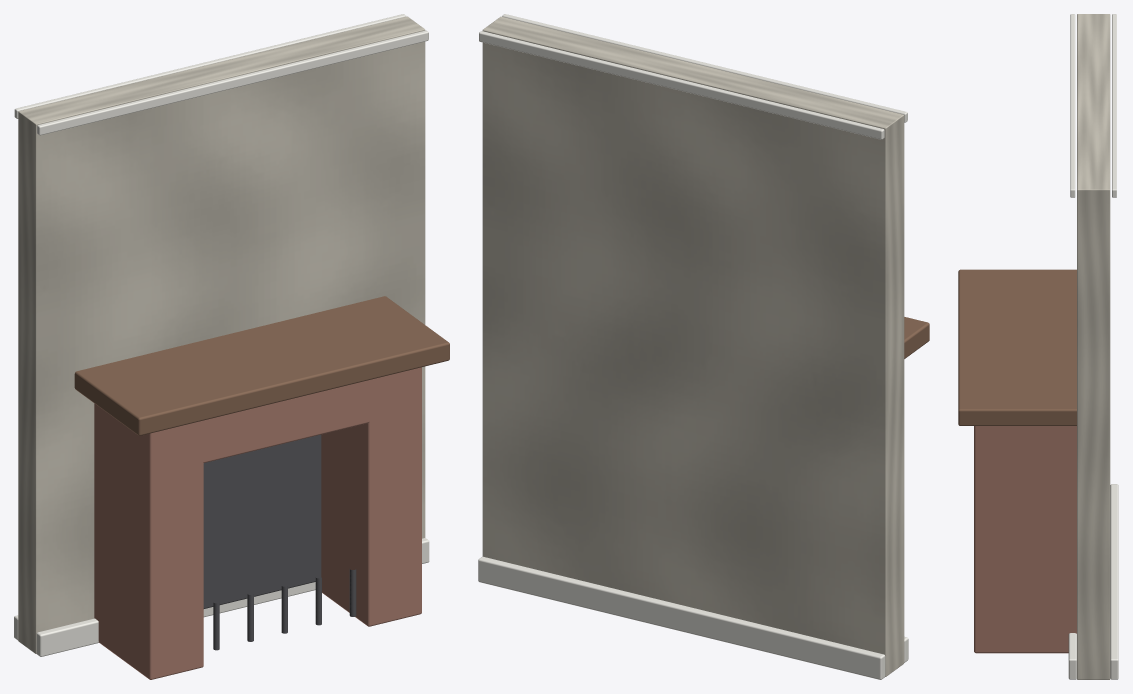
The model's file is paranormal-investigation-house-fireplace-wall-6ad4c311__26702.glb.
The picture shows the model from 3 angles, left to right: view 1: azimuth 30°, elevation 25°; view 2: azimuth 150°, elevation 25°; view 3: azimuth 270°, elevation 25°; orthographic projection. The views are drawn at different scales.
Parts seen in each view (by area): view 1: fireplace-wall; view 2: fireplace-wall; view 3: fireplace-wall.
Boxes of the visible parts, x1,y1,x2,y2 form: fireplace-wall: (14, 14, 449, 679); fireplace-wall: (478, 14, 929, 679); fireplace-wall: (958, 14, 1118, 679).
Size of the model in its own units: 2 by 2.6 by 0.77.
Materials: 5 (1 with a texture image).
